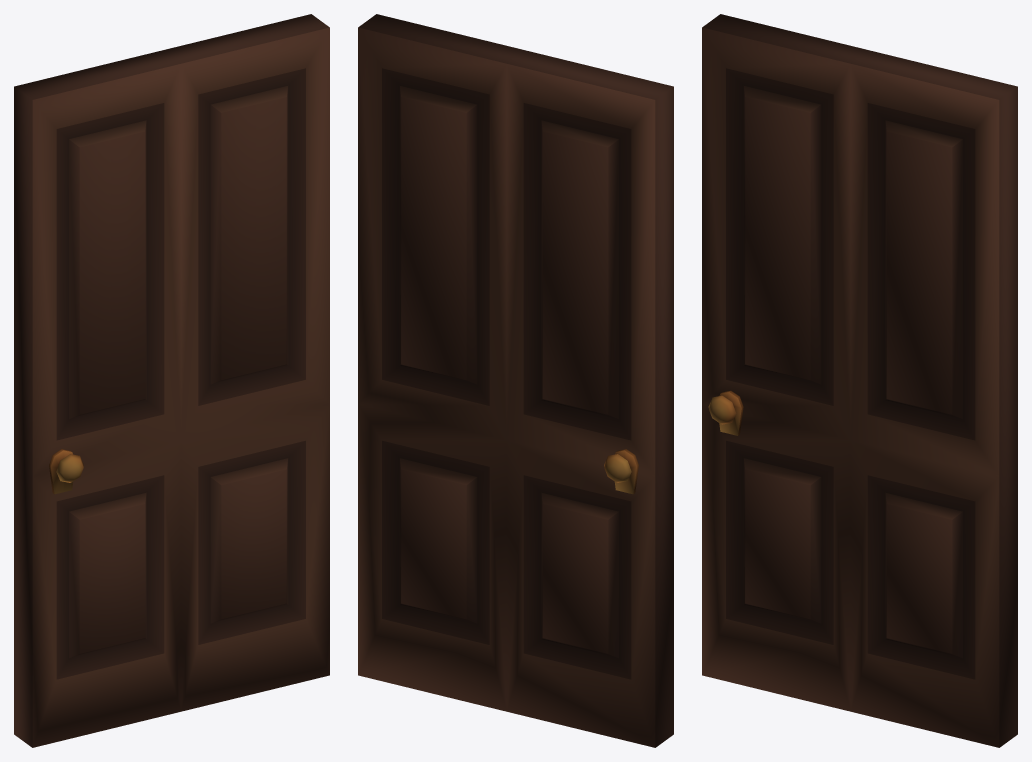
The model's file is furnishings-indoor-door_v1.glb.
3 renders of one model, left to right at view 1: azimuth 30°, elevation 25°; view 2: azimuth 150°, elevation 25°; view 3: azimuth 330°, elevation 25°, orthographic.
Parts seen in each view (by area): view 1: Door_base, Door_refl; view 2: Door_base, Door_refl; view 3: Door_base, Door_refl.
Boxes of the visible parts, bbox=[...] form: Door_base: bbox=[14, 14, 329, 747]; Door_refl: bbox=[49, 449, 83, 494]; Door_base: bbox=[358, 14, 673, 747]; Door_refl: bbox=[604, 449, 638, 494]; Door_base: bbox=[702, 14, 1017, 747]; Door_refl: bbox=[708, 390, 743, 435].
Bounding box in the file's own units: 0.6491 × 1.35 × 0.1756.
